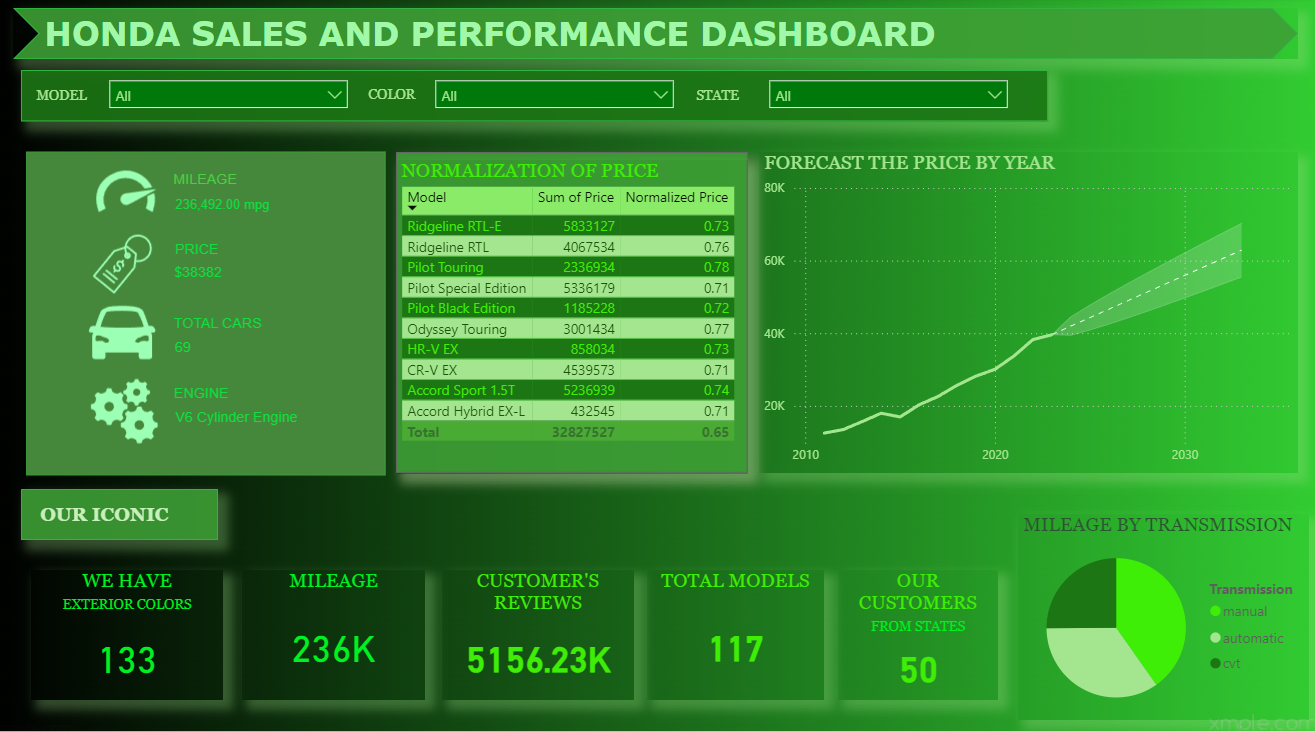

The dashboard page shown, as its layout file describes it:
{"tool":"powerbi","page":{"name":"Sales Performance","canvas":[1280,720],"ordinal":1},"visuals":[{"type":"shape","box":[12.6,10.7,1249.8,49.6],"z":0},{"type":"textbox","box":[37.9,10.7,1066,204.3],"z":1000},{"type":"pureVizInfographicC9801BF222134D2D83FA9C41861F3482","fields":{"dataset":["Max(honda_data.Mileage)","Avg(honda_data.Price)","honda_data.TOTAL VEHICLES"],"category":["honda_data.Engine","honda_data.Consumer_Rating (bins)"]},"box":[20.4,135.2,819,492.2],"z":2000},{"type":"shape","box":[20,70.8,999,50],"z":3000},{"type":"slicer","fields":{"Values":["honda_data.Engine"]},"box":[96.3,71,251.9,46.7],"z":4000},{"type":"textbox","box":[30,80.8,74,31],"z":5000},{"type":"lineChart","title":"FORECAST THE PRICE BY YEAR","fields":{"Category":["honda_data.Year"],"Y":["Avg(honda_data.Price)"]},"box":[738.2,150.7,524.3,312.2],"z":6000},{"type":"card","title":"WE HAVE","fields":{"Values":["Count(honda_data.Exterior_Color)"]},"box":[30.2,557.3,186.7,126.4],"z":7000},{"type":"card","title":"MILEAGE","fields":{"Values":["Max(honda_data.Mileage)"]},"box":[235.4,557.3,178,126.4],"z":8000},{"type":"shape","box":[20.4,478.5,191.6,49.6],"z":9000},{"type":"textbox","box":[34,487.3,178,32.1],"z":10000},{"type":"card","title":"CUSTOMER''S REVIEWS ","fields":{"Values":["Sum(honda_data.Consumer_Review_#)"]},"box":[429.9,557.3,186.7,126.4],"z":11000},{"type":"card","title":"TOTAL MODELS","fields":{"Values":["Count(honda_data.Model)"]},"box":[629.3,557.3,172.2,126.4],"z":12000},{"type":"card","title":"OUR CUSTOMERS ","fields":{"Values":["Count(honda_data.State)"]},"box":[815.1,557.3,155.6,126.4],"z":13000},{"type":"pieChart","title":"MILEAGE BY TRANSMISSION","fields":{"Category":["honda_data.Transmission"],"Y":["Avg(honda_data.Mileage)"]},"box":[990.2,502.9,283,200.4],"z":14000},{"type":"textbox","box":[353,79.8,66,31],"z":15000},{"type":"slicer","fields":{"Values":["honda_data.Exterior_Color"]},"box":[413,70.8,252,47],"z":16000},{"type":"slicer","fields":{"Values":["honda_data.State"]},"box":[738,70.8,252,47],"z":17000},{"type":"textbox","box":[672,80.8,66,31],"z":18000},{"type":"shape","box":[385,150.8,342,312],"z":19000},{"type":"tableEx","title":"NORMALIZATION OF PRICE","fields":{"Values":["honda_data.Model","Sum(honda_data.Price)","honda_data.Normalized Price"]},"box":[385.1,158.1,342.5,304.9],"z":20000}]}

Visuals, with their boxes in screenshot pixels (x1, y1, x2, y2), scaled from the page's 1280x720 canvas onto the 1315x732 screenshot:
shape: 13/11/1297/61
textbox: 39/11/1134/219
pureVizInfographicC9801BF222134D2D83FA9C41861F3482 - Max(honda_data.Mileage) x Avg(honda_data.Price): 21/137/862/638
shape: 21/72/1047/123
slicer - honda_data.Engine: 99/72/358/120
textbox: 31/82/107/114
"FORECAST THE PRICE BY YEAR" lineChart: 758/153/1297/471
"WE HAVE" card: 31/567/223/695
"MILEAGE" card: 242/567/425/695
shape: 21/486/218/537
textbox: 35/495/218/528
"CUSTOMER''S REVIEWS " card: 442/567/633/695
"TOTAL MODELS" card: 647/567/823/695
"OUR CUSTOMERS " card: 837/567/997/695
"MILEAGE BY TRANSMISSION" pieChart: 1017/511/1308/715
textbox: 363/81/430/113
slicer - honda_data.Exterior_Color: 424/72/683/120
slicer - honda_data.State: 758/72/1017/120
textbox: 690/82/758/114
shape: 396/153/747/471
"NORMALIZATION OF PRICE" tableEx: 396/161/747/471
